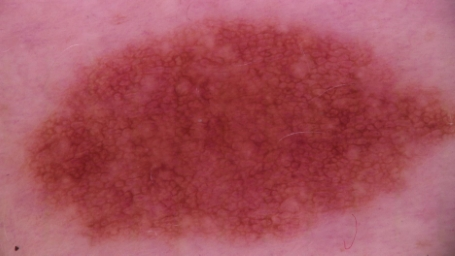melanoma: (24, 22, 455, 245)
